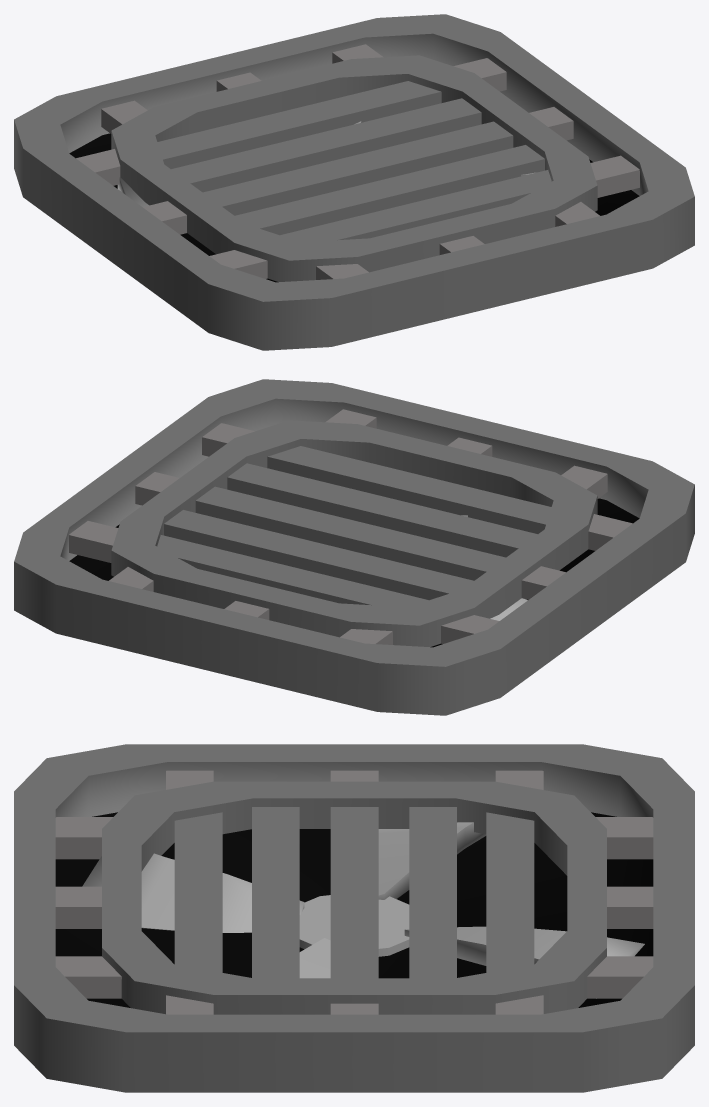
Rendered from Vent.fbx.
The picture shows the model from 3 angles, top to bottom: view 1: azimuth 30°, elevation 25°; view 2: azimuth 150°, elevation 25°; view 3: azimuth 270°, elevation 25°; orthographic projection. The views are drawn at different scales.
Parts seen in each view (by area): view 1: FloorVent; view 2: FloorVent; view 3: FloorVent, Vent.Fan.
Boxes of the visible parts, box(x1,y1,x2,y2) form: FloorVent: box(14, 14, 694, 350); FloorVent: box(14, 379, 694, 715); FloorVent: box(14, 744, 694, 1092); Vent.Fan: box(82, 822, 644, 998).
Bounding box in the file's own units: 0.6194 × 0.0631 × 0.6194.
